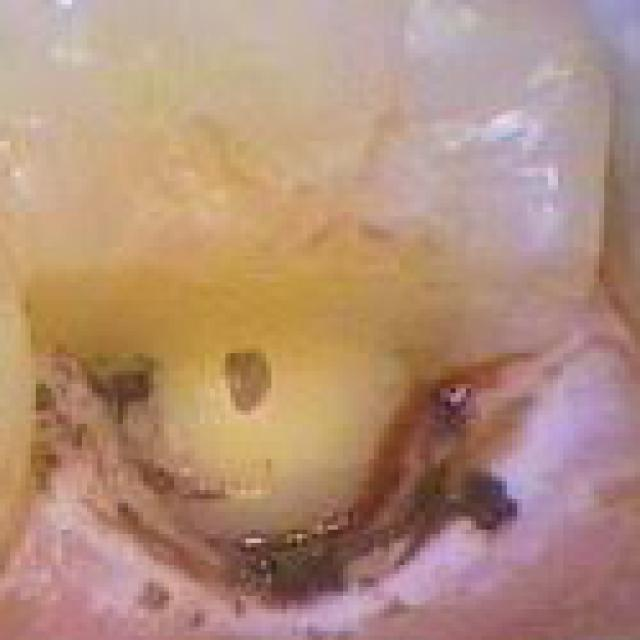Carrier: (343, 368, 515, 536), (19, 342, 178, 502), (221, 526, 394, 608), (197, 346, 286, 418)
